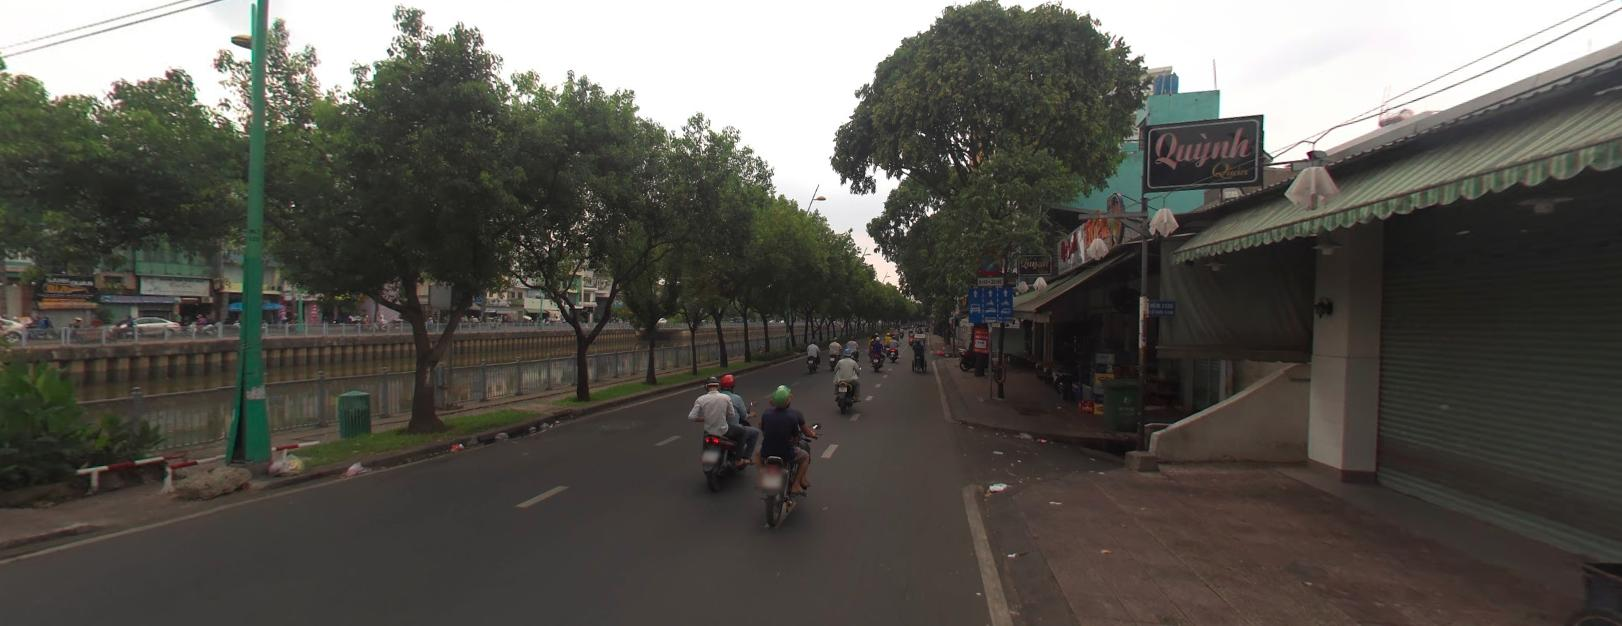Cam dung va do: (977, 248, 1001, 273)
